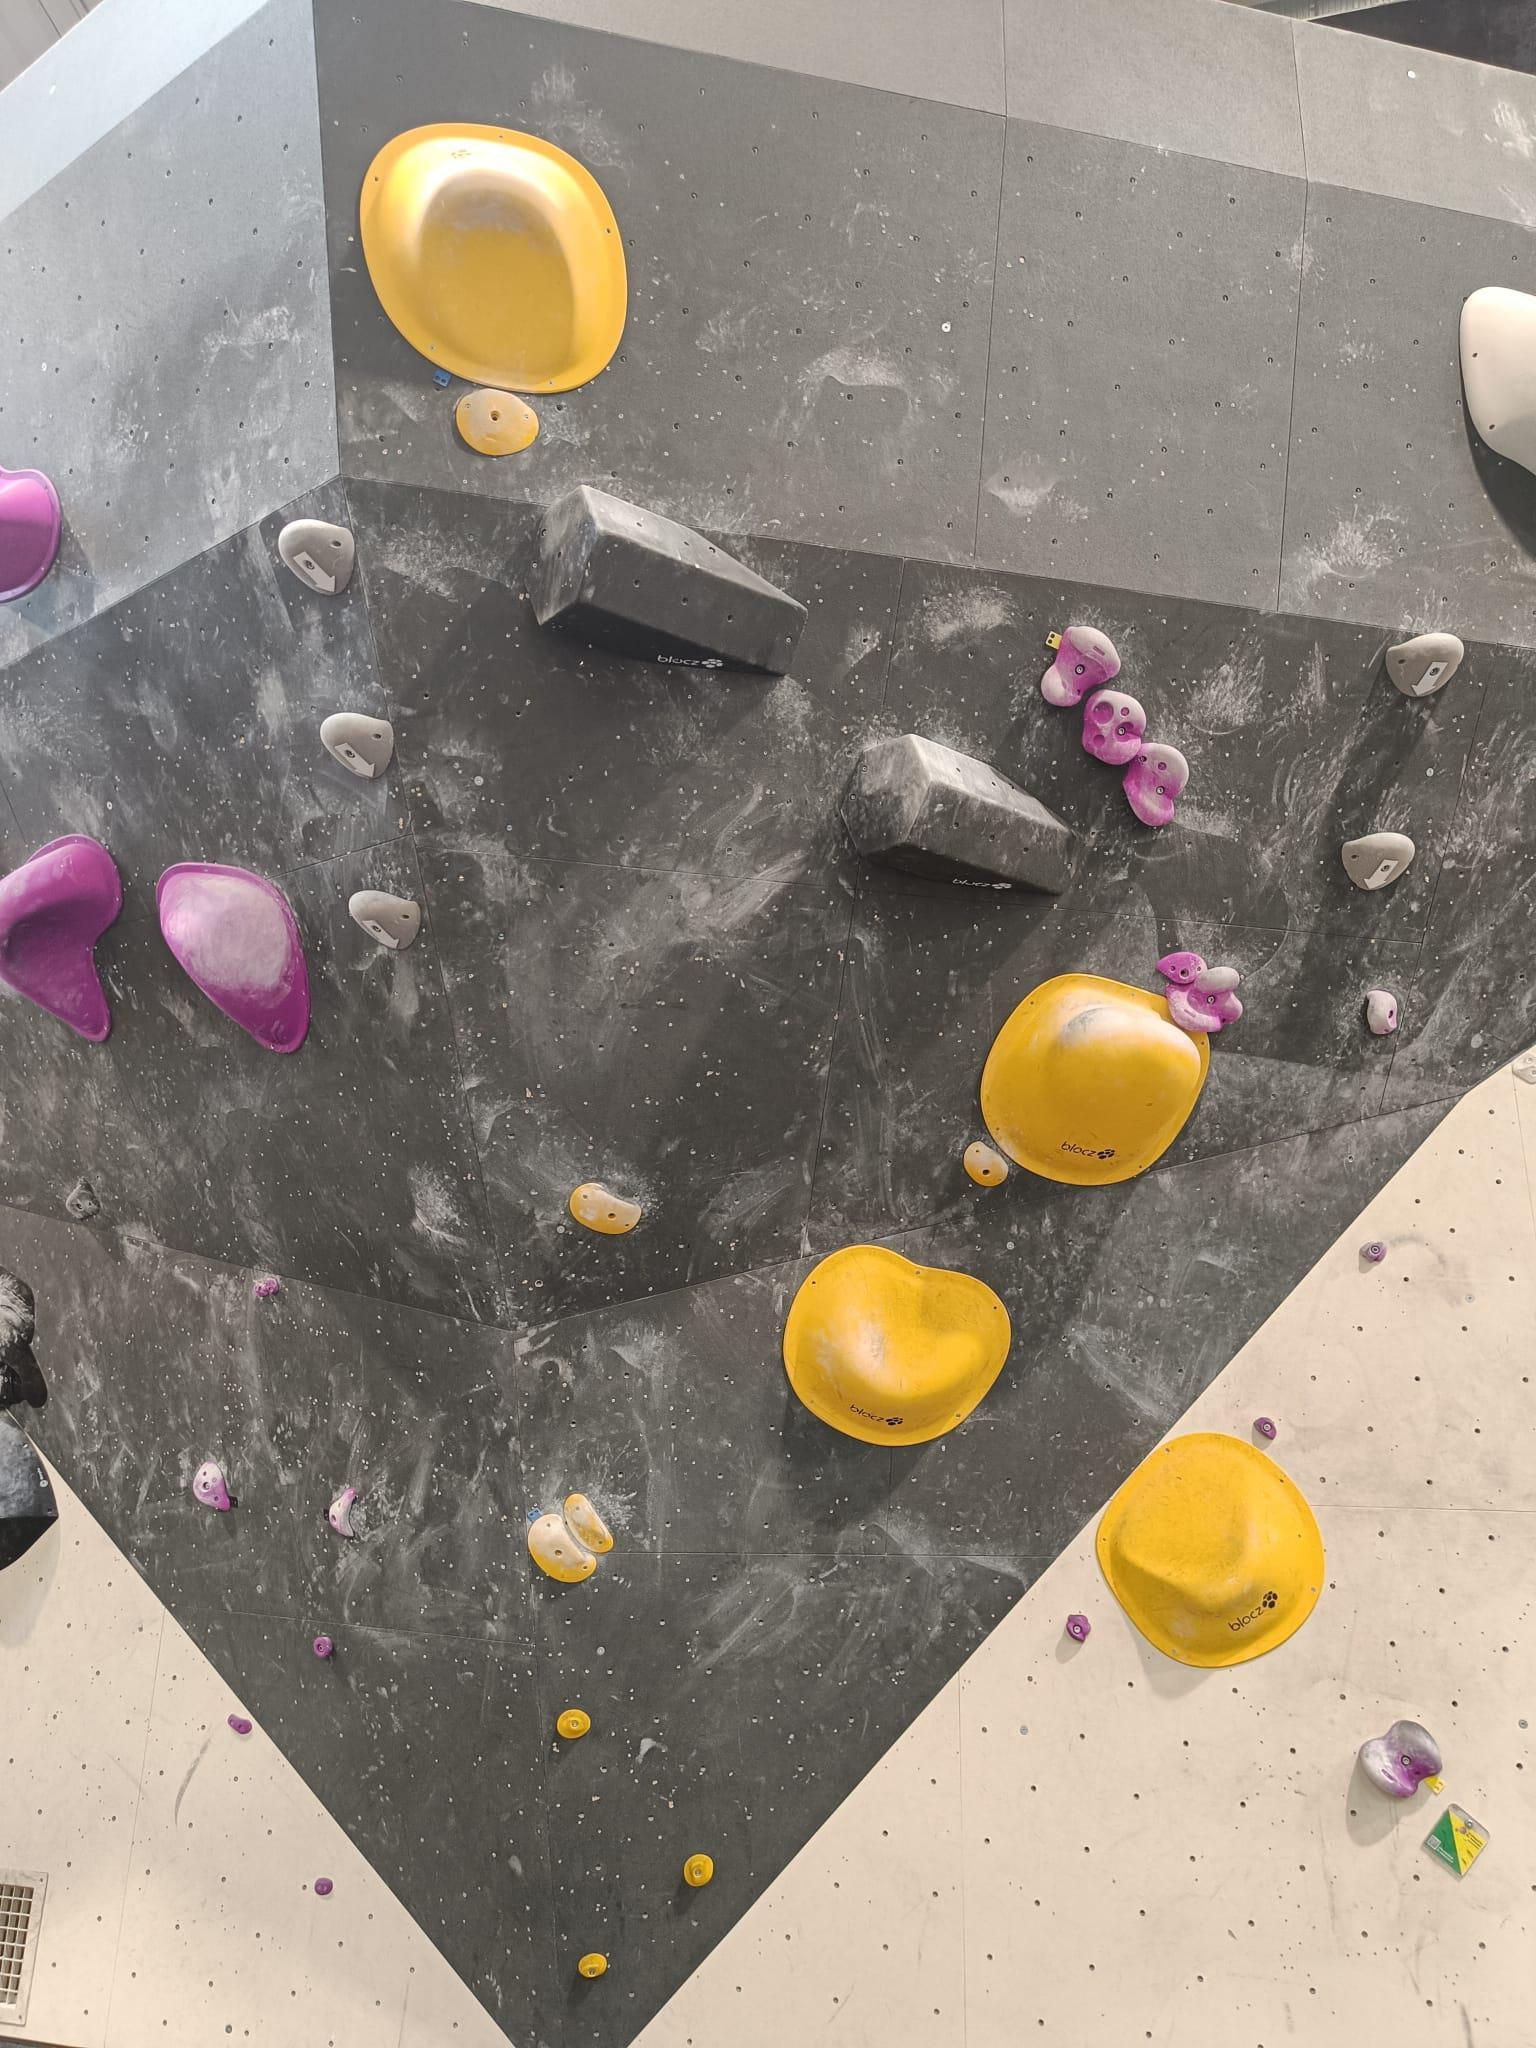hold: (360, 123, 626, 393), (1096, 1432, 1323, 1667), (979, 974, 1212, 1185), (783, 1247, 1010, 1445), (157, 864, 310, 1053), (0, 834, 124, 1043), (1459, 287, 1536, 476), (0, 1408, 60, 1571), (0, 466, 63, 601), (0, 1266, 47, 1409), (1041, 626, 1121, 708), (1359, 1721, 1442, 1796), (278, 519, 355, 597), (455, 389, 541, 456), (1123, 743, 1189, 827), (1165, 966, 1242, 1032), (1384, 632, 1463, 697), (319, 713, 394, 779), (1083, 690, 1146, 764), (528, 1514, 595, 1582), (349, 890, 423, 950), (1341, 832, 1415, 890), (570, 1184, 642, 1235), (565, 1493, 613, 1553), (963, 1140, 1010, 1187), (192, 1459, 231, 1513), (1155, 951, 1207, 984), (329, 1487, 358, 1538), (65, 1176, 98, 1219), (1367, 990, 1397, 1035), (557, 1708, 592, 1740), (682, 1853, 715, 1888), (578, 1951, 610, 1979), (1512, 1053, 1536, 1084), (1066, 1616, 1092, 1642), (1359, 1240, 1388, 1263), (313, 1634, 336, 1659), (226, 1714, 252, 1735), (1254, 1417, 1276, 1440), (253, 1277, 279, 1297), (313, 1875, 334, 1896)
volume: (523, 484, 810, 676), (839, 734, 1086, 897)
